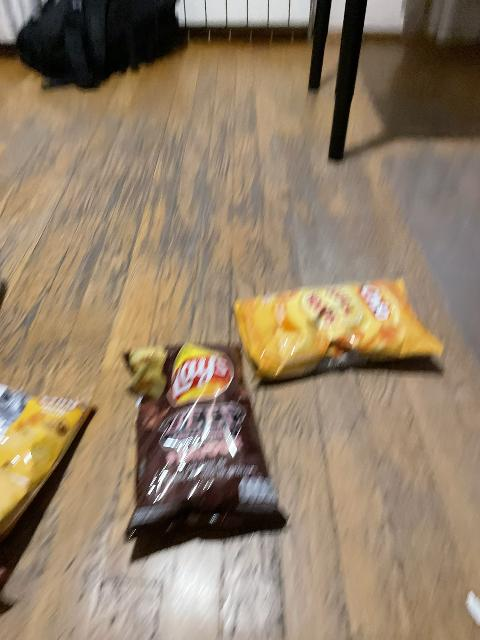Chio Cascaval 125g: (1, 385, 91, 548)
Chio Hula Hoops Cheese 70g: (235, 279, 444, 378)
Lays Beef Grilled Ribs 125g: (123, 343, 287, 549)
